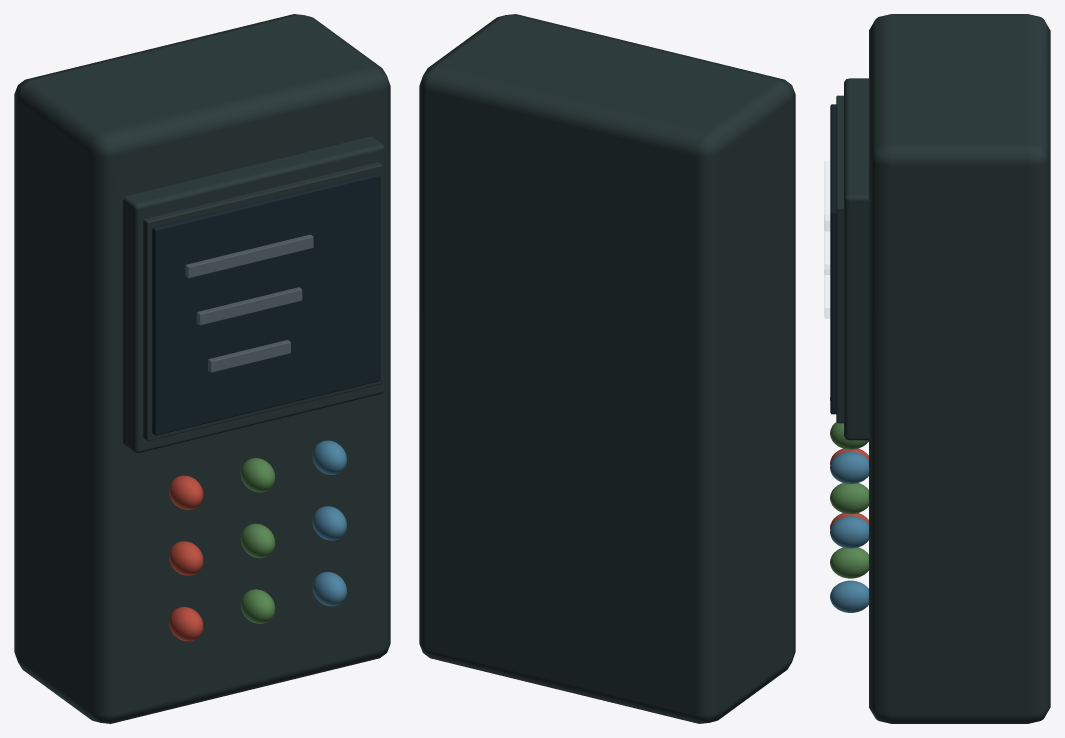
File: wp-terminal-de-paiement.glb
3 renders of one model, left to right at view 1: azimuth 30°, elevation 25°; view 2: azimuth 150°, elevation 25°; view 3: azimuth 270°, elevation 25°, orthographic.
Parts seen in each view (by area): view 1: wp-terminal-de-paiement; view 2: wp-terminal-de-paiement; view 3: wp-terminal-de-paiement.
Part boxes in pixels (x1,y1,x2,y2): wp-terminal-de-paiement: [14, 14, 390, 723]; wp-terminal-de-paiement: [419, 14, 795, 723]; wp-terminal-de-paiement: [824, 14, 1050, 723].
Size of the model in its own units: 0.09 by 0.17 by 0.06.
